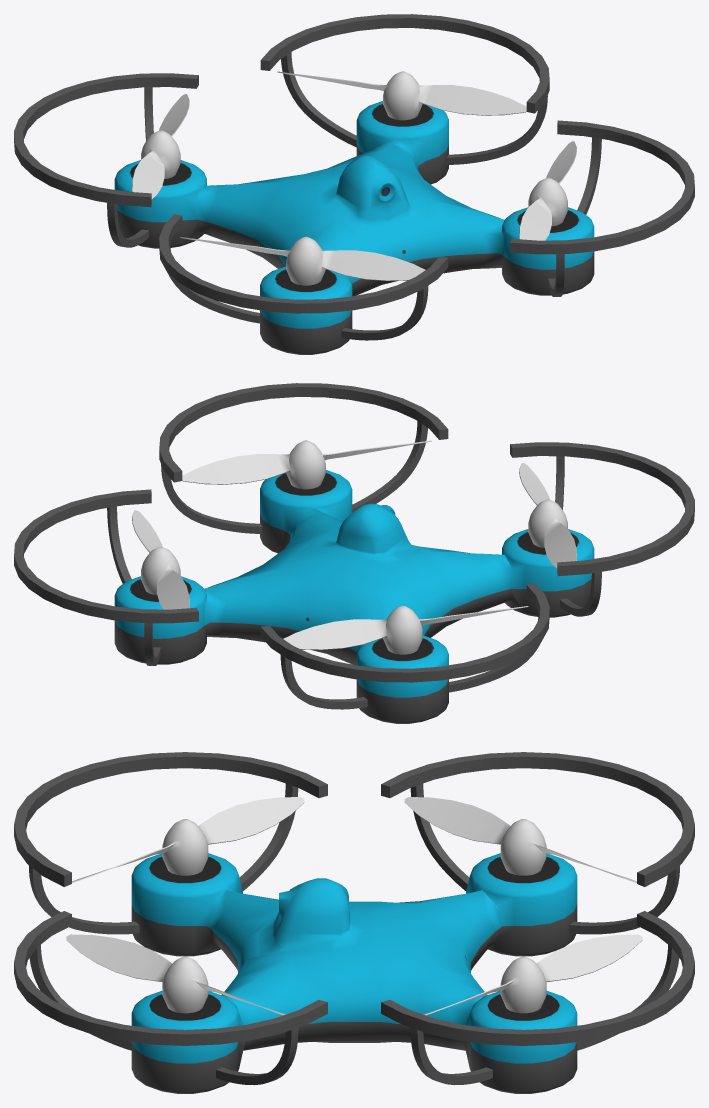
Rendered from Micro Drone.fbx.
3 renders of one model, top to bottom at view 1: azimuth 30°, elevation 25°; view 2: azimuth 150°, elevation 25°; view 3: azimuth 270°, elevation 25°, orthographic. The views are drawn at different scales.
Parts seen in each view (by area): view 1: Micro Drone_low, Micro Drone_low.011, Micro Drone_low.009, Micro Drone_low.008, Micro Drone_low.010; view 2: Micro Drone_low, Micro Drone_low.010, Micro Drone_low.008, Micro Drone_low.009, Micro Drone_low.011; view 3: Micro Drone_low, Micro Drone_low.008, Micro Drone_low.009, Micro Drone_low.010, Micro Drone_low.011.
Boxes of the visible parts, x1,y1,x2,y2 form: Micro Drone_low: (14,14,694,354); Micro Drone_low.011: (277,71,526,120); Micro Drone_low.009: (180,236,425,285); Micro Drone_low.008: (132,94,189,206); Micro Drone_low.010: (519,141,576,253); Micro Drone_low: (14,383,694,723); Micro Drone_low.010: (182,440,431,489); Micro Drone_low.008: (283,605,528,654); Micro Drone_low.009: (519,463,576,575); Micro Drone_low.011: (132,510,189,622); Micro Drone_low: (14,752,694,1093); Micro Drone_low.008: (404,797,636,882); Micro Drone_low.009: (72,797,304,882); Micro Drone_low.010: (66,934,285,1015); Micro Drone_low.011: (423,934,642,1015).
Bounding box in the file's own units: 0.1885 × 0.0443 × 0.1921.
